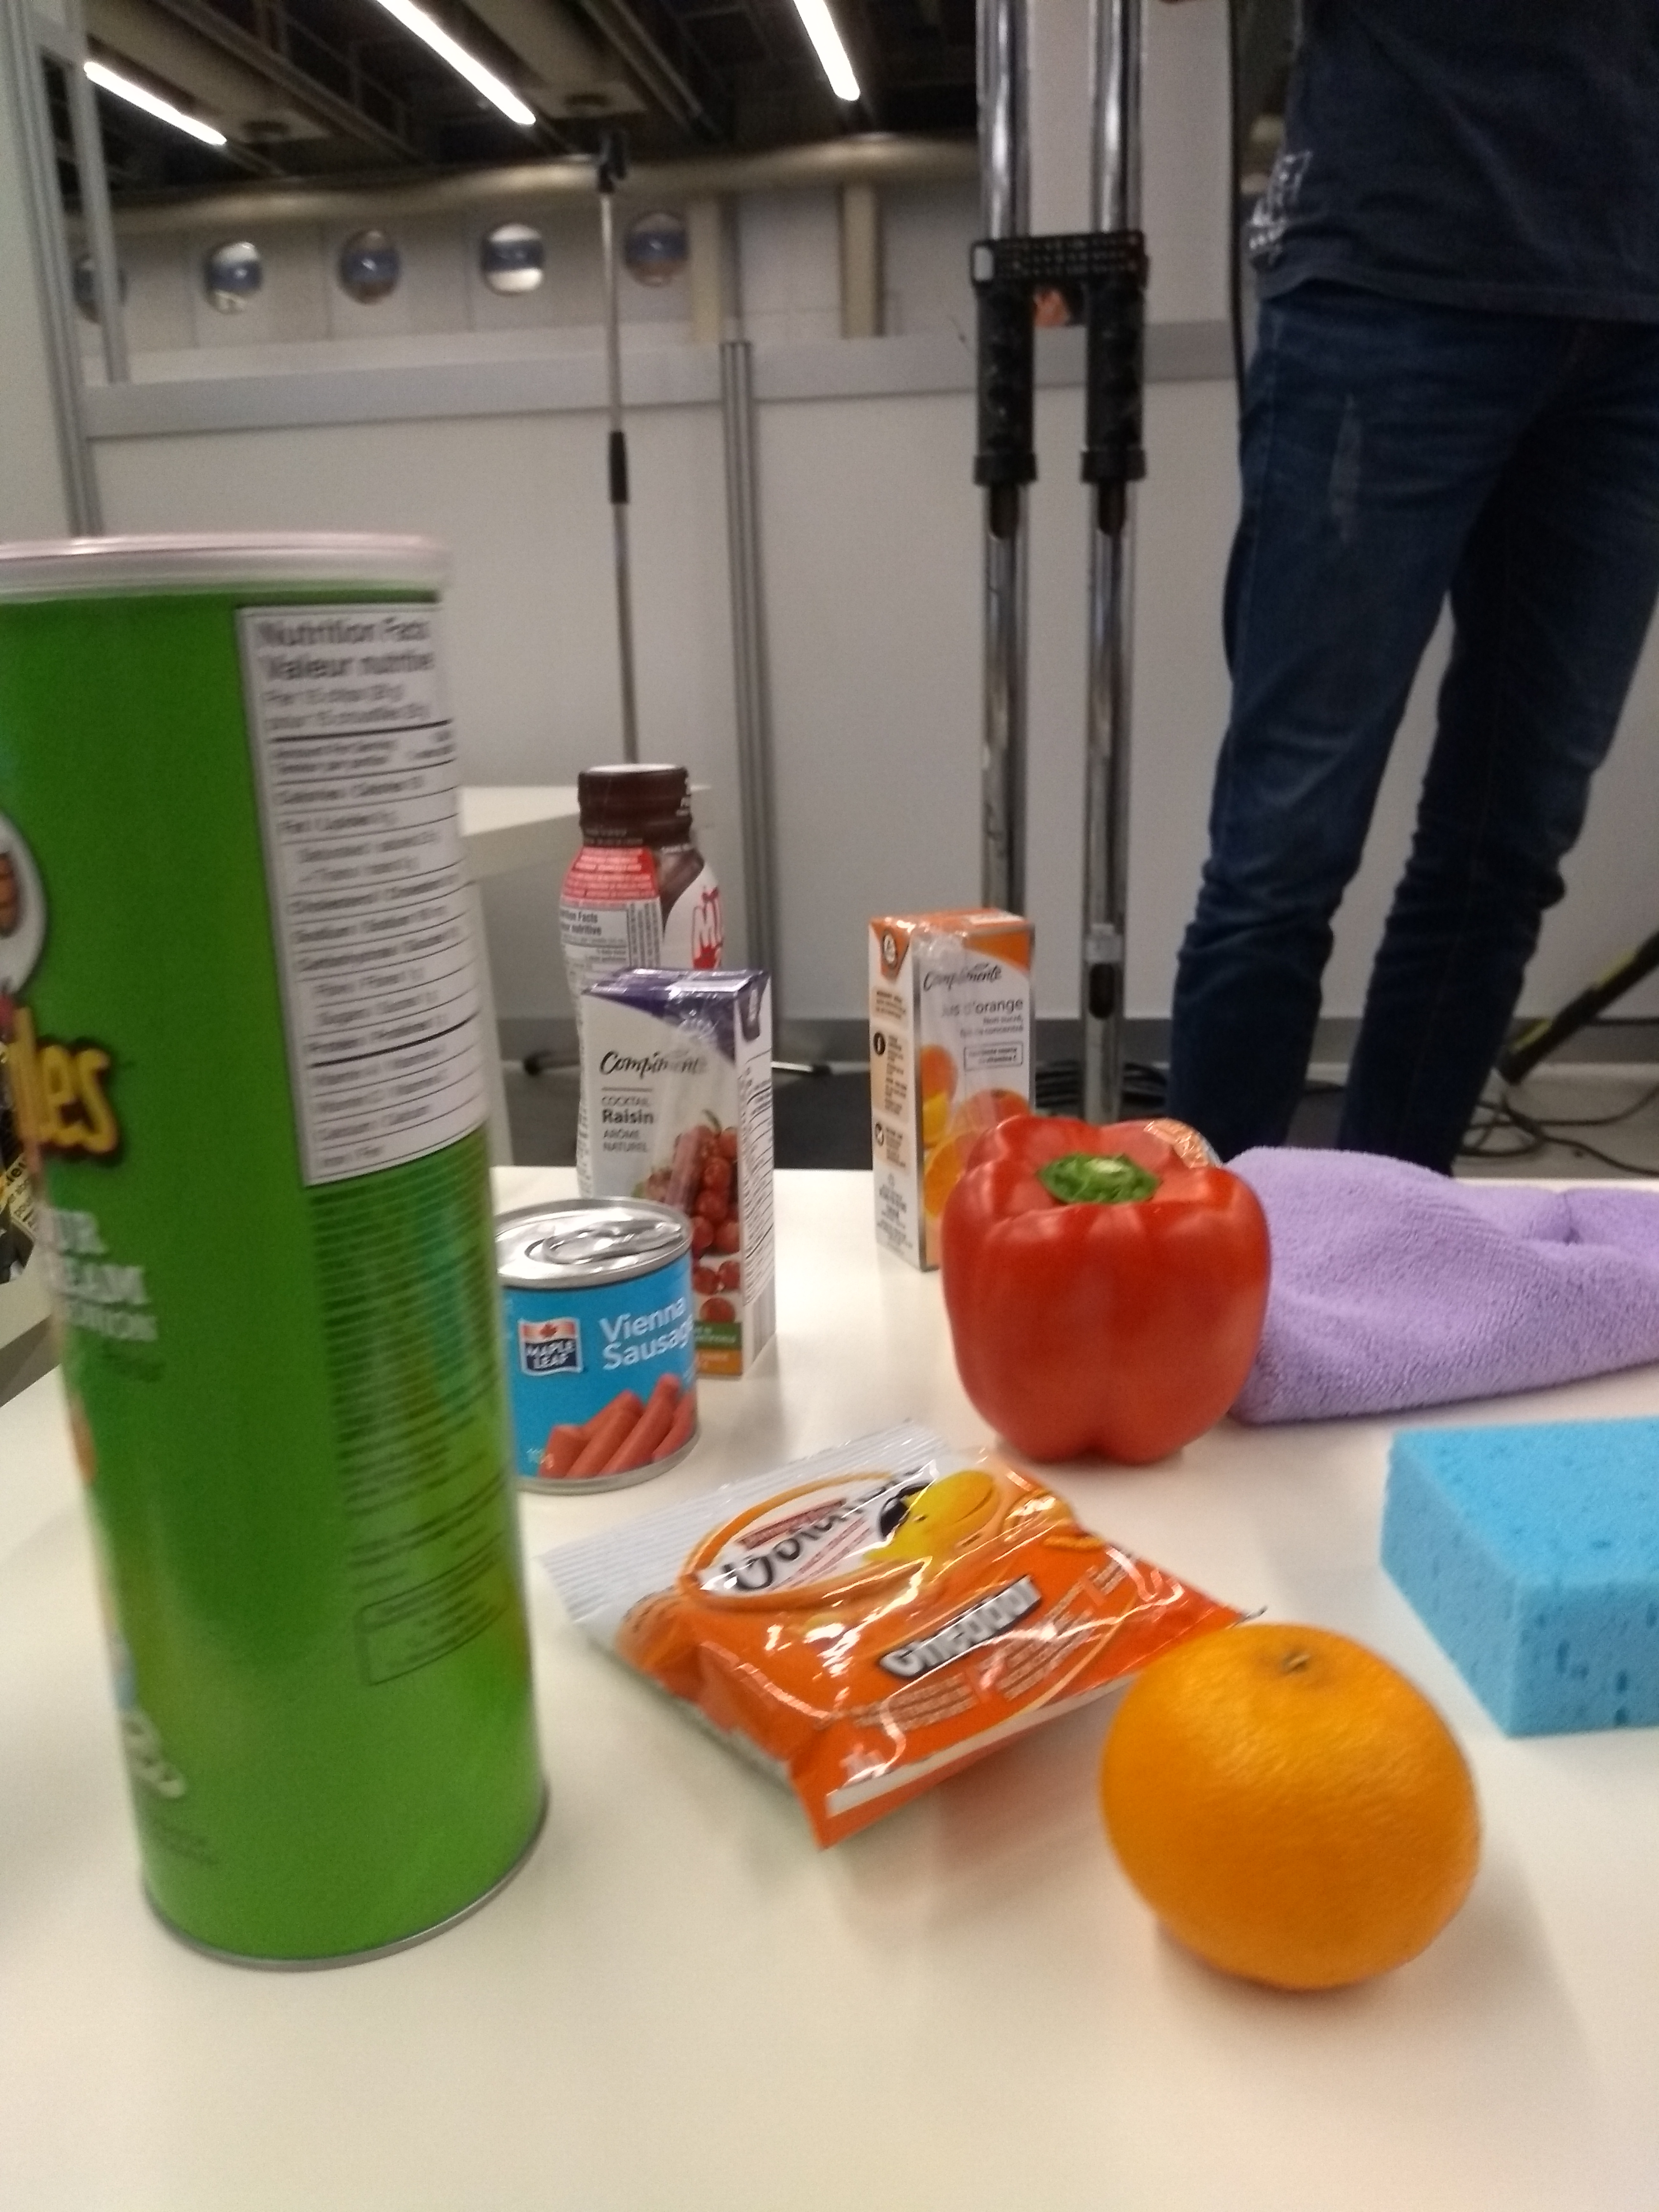chocolate_drink: (549, 745, 746, 982)
cloth_opl: (1227, 1125, 1656, 1454)
grape_juice: (573, 946, 789, 1386)
orange: (1091, 1616, 1514, 2005)
orange_juice: (854, 895, 1051, 1273)
paprika: (934, 1106, 1269, 1479)
pringles: (0, 509, 537, 1996)
sausages: (500, 1195, 711, 1489)
sponge_opl: (1366, 1397, 1659, 1723)
